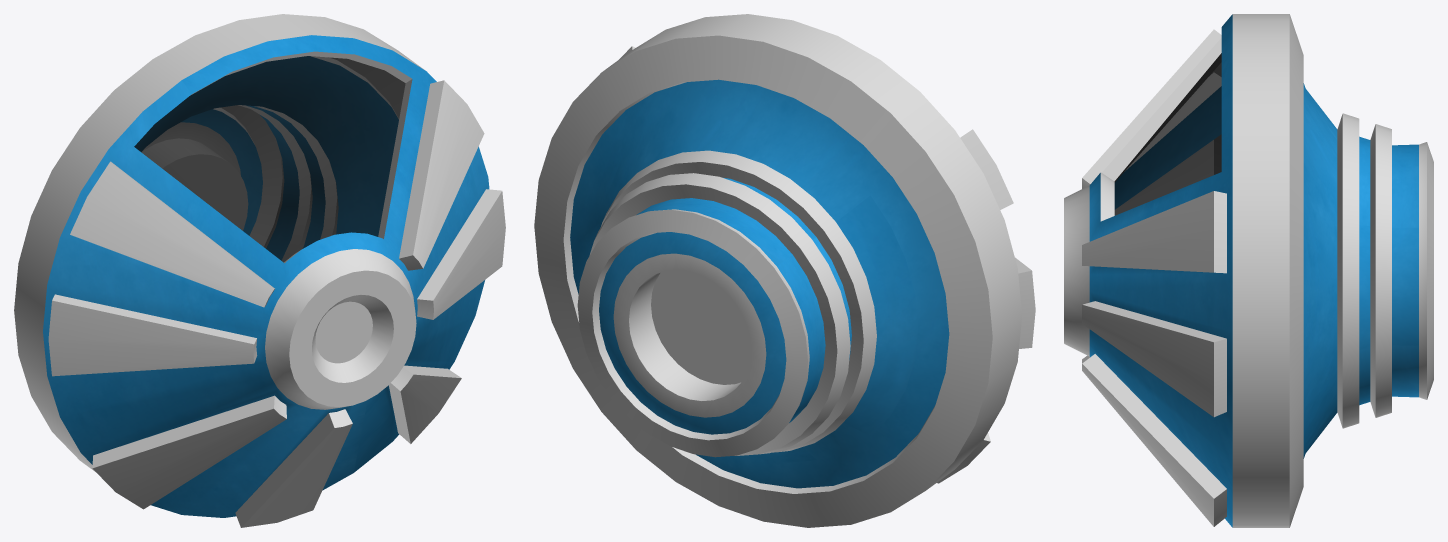
Rendered from Enemy5.fbx.
The picture shows the model from 3 angles, left to right: view 1: azimuth 30°, elevation 25°; view 2: azimuth 150°, elevation 25°; view 3: azimuth 270°, elevation 25°; orthographic projection. The views are drawn at different scales.
Visible parts, largest first — view 1: Enemy5; view 2: Enemy5; view 3: Enemy5.
Part boxes in pixels (x1,y1,x2,y2): Enemy5: [14, 14, 505, 527]; Enemy5: [534, 14, 1035, 527]; Enemy5: [1064, 14, 1433, 527].
Size of the model in its own units: 610 by 605 by 431.
